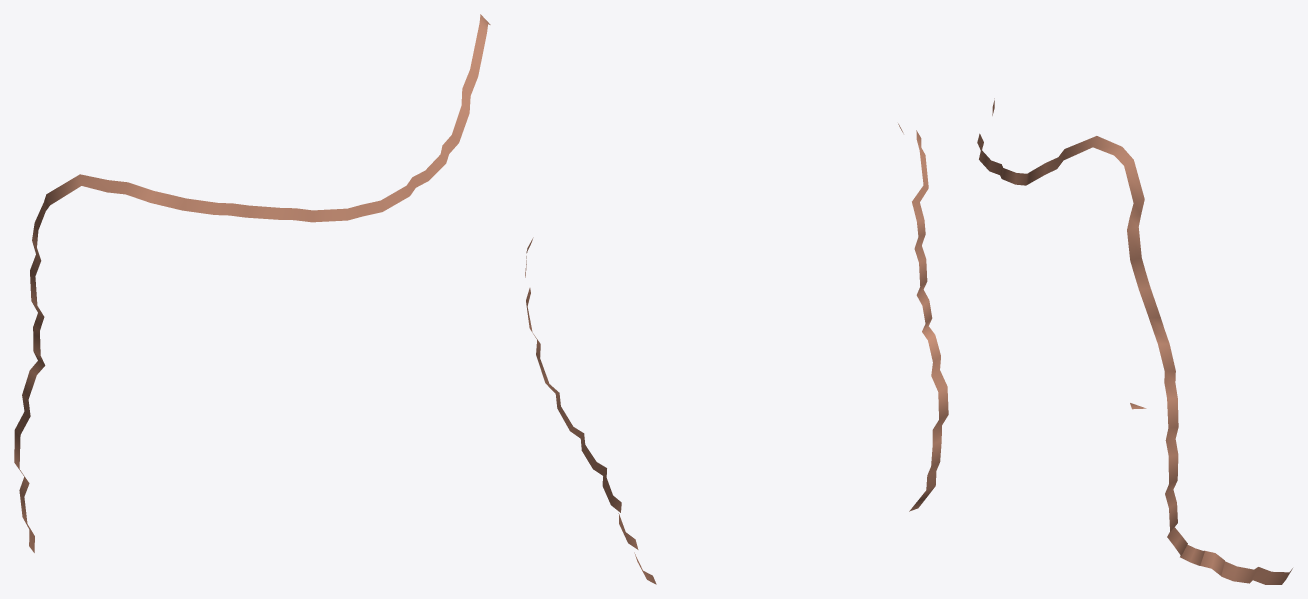
Rendered from mesocolic-taenia.glb.
3 views of the same model, side by side, from view 1: azimuth 30°, elevation 25°; view 2: azimuth 150°, elevation 25°; view 3: azimuth 270°, elevation 25° (orthographic). The views are drawn at different scales.
Visible parts, largest first — view 1: Mesocolic taenia; view 2: Mesocolic taenia; view 3: Mesocolic taenia.
Boxes of the visible parts, bbox=[...] form: Mesocolic taenia: bbox=[14, 14, 490, 552]; Mesocolic taenia: bbox=[525, 123, 948, 584]; Mesocolic taenia: bbox=[977, 98, 1292, 584].
Size of the model in its own units: 0.2238 by 0.2476 by 0.1357.
